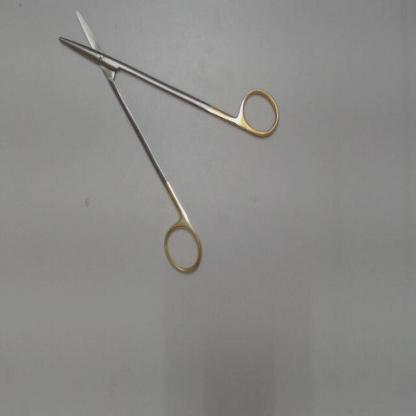7 Metzenbaum Scissors: (54, 4, 283, 284)
